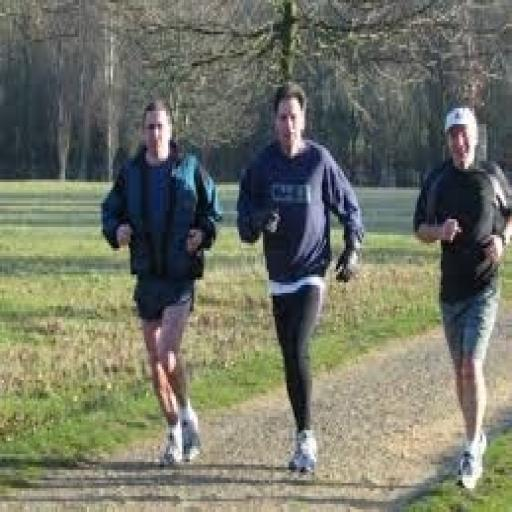running: (233, 79, 368, 478), (99, 95, 223, 470), (411, 103, 510, 493)
